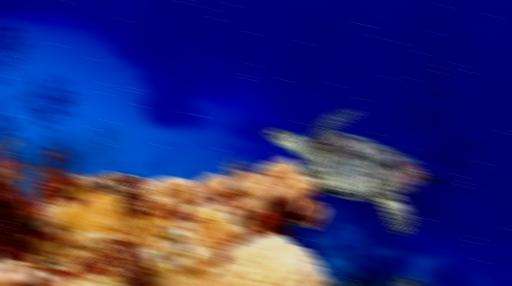Fish: (266, 109, 435, 235)
